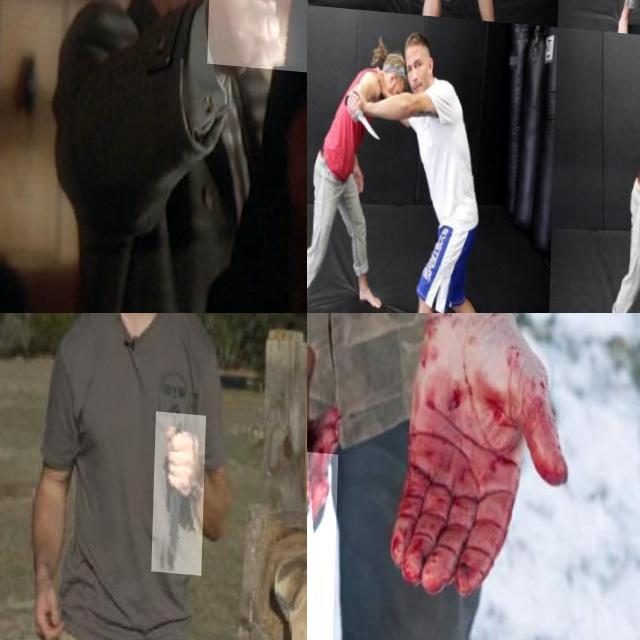-: (307, 438, 380, 640), (154, 406, 208, 569), (344, 91, 385, 141), (337, 0, 380, 25)
gun-knife-thesis - v11 Yolov5 augmented: (209, 0, 307, 109)
